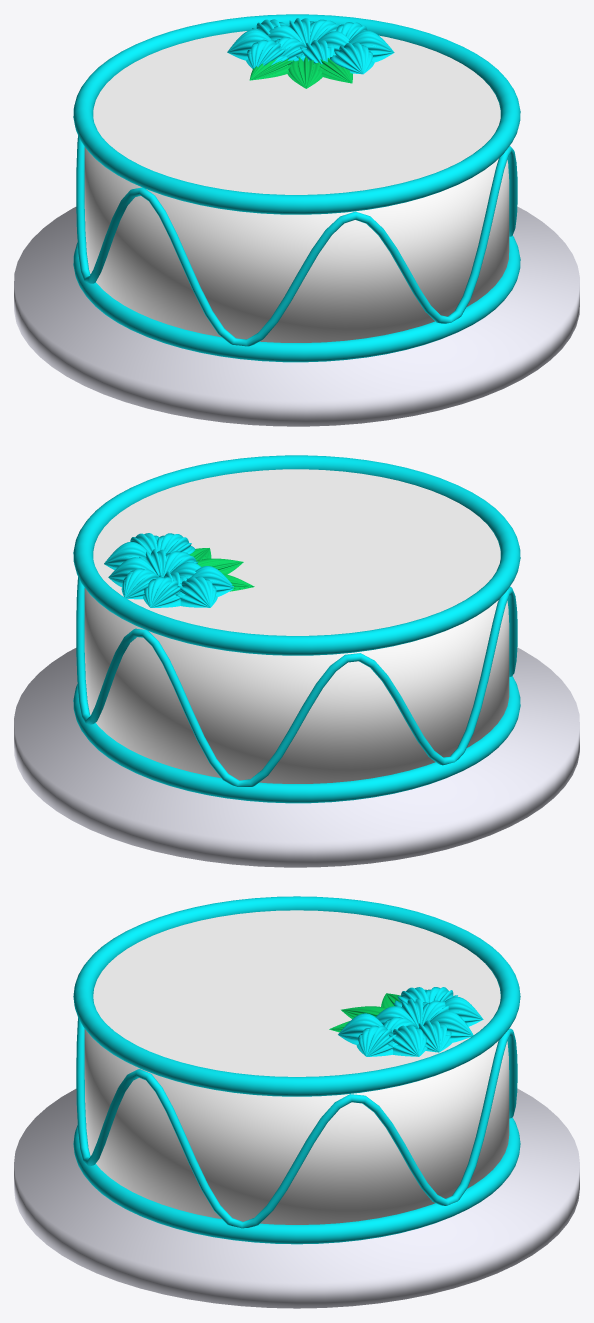
The model's file is round_vanilla_style2.glb.
3 views of the same model, one above another, from view 1: azimuth 30°, elevation 25°; view 2: azimuth 150°, elevation 25°; view 3: azimuth 270°, elevation 25° (orthographic).
Parts seen in each view (by area): view 1: CakeBase, IcingStand, CakeTopCircle, IcingRing, IcingRing.001, WaveIcing, leaf.001, design10, design11, design7, design12, design3; view 2: CakeBase, IcingStand, CakeTopCircle, IcingRing, IcingRing.001, WaveIcing, design12, design9, leaf.001, design4, design8, design11 (+2 smaller); view 3: CakeBase, IcingStand, CakeTopCircle, IcingRing, IcingRing.001, WaveIcing, design7, design8, design5, design4, design10, leaf.001 (+1 smaller).
Part boxes in pixels (bbox=[...]): CakeBase: bbox=[84, 147, 509, 342]; IcingStand: bbox=[14, 206, 579, 426]; CakeTopCircle: bbox=[93, 31, 500, 194]; IcingRing: bbox=[73, 14, 520, 214]; IcingRing.001: bbox=[73, 235, 520, 362]; WaveIcing: bbox=[76, 135, 517, 346]; leaf.001: bbox=[249, 57, 352, 88]; design10: bbox=[330, 42, 374, 74]; design11: bbox=[246, 39, 288, 68]; design7: bbox=[349, 30, 394, 62]; design12: bbox=[227, 29, 271, 60]; design3: bbox=[296, 40, 334, 64]; CakeBase: bbox=[84, 588, 509, 783]; IcingStand: bbox=[14, 647, 579, 867]; CakeTopCircle: bbox=[93, 469, 500, 635]; IcingRing: bbox=[73, 455, 520, 655]; IcingRing.001: bbox=[73, 676, 520, 803]; WaveIcing: bbox=[76, 577, 517, 786]; design12: bbox=[175, 576, 217, 607]; design9: bbox=[143, 576, 185, 607]; leaf.001: bbox=[189, 548, 254, 591]; design4: bbox=[121, 568, 159, 599]; design8: bbox=[104, 542, 150, 570]; design11: bbox=[190, 566, 233, 596]; CakeBase: bbox=[84, 1029, 509, 1224]; IcingStand: bbox=[14, 1088, 579, 1308]; CakeTopCircle: bbox=[93, 910, 500, 1076]; IcingRing: bbox=[73, 896, 520, 1096]; IcingRing.001: bbox=[73, 1117, 520, 1244]; WaveIcing: bbox=[76, 1018, 517, 1228]; design7: bbox=[356, 1025, 397, 1056]; design8: bbox=[387, 1025, 427, 1056]; design5: bbox=[419, 1020, 451, 1052]; design4: bbox=[430, 1011, 473, 1042]; design10: bbox=[338, 1013, 383, 1044]; leaf.001: bbox=[329, 993, 400, 1032].
Size of the model in its own units: 4 by 1.69 by 4.
